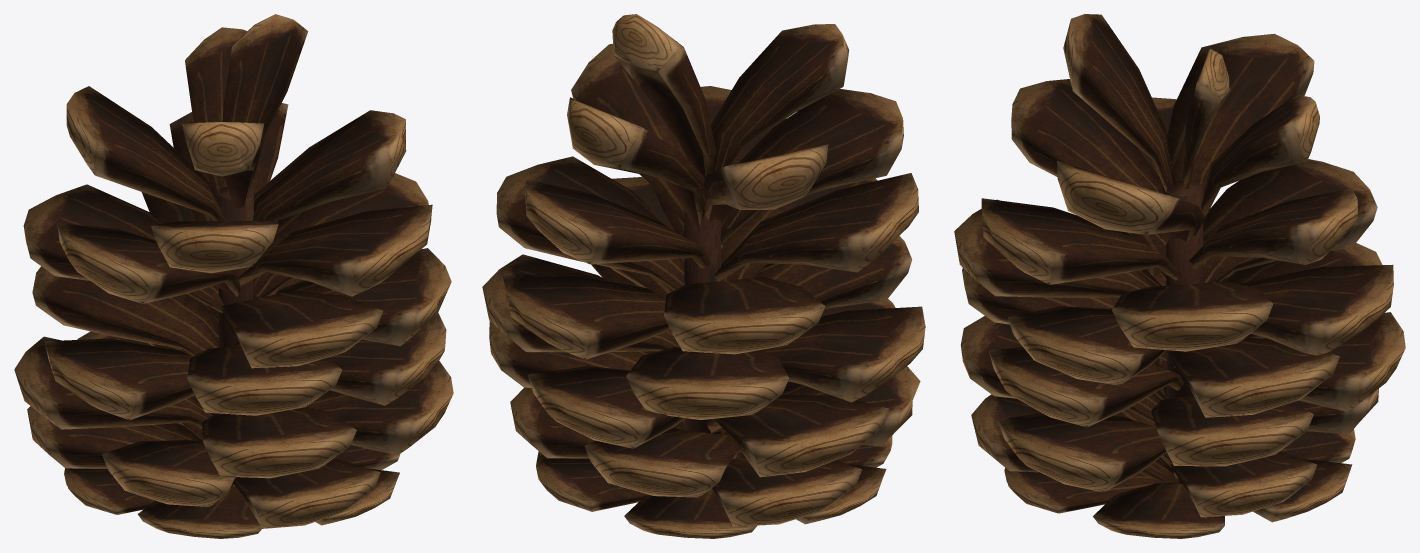
File: pinecone.fbx
3 renders of one model, left to right at view 1: azimuth 30°, elevation 25°; view 2: azimuth 150°, elevation 25°; view 3: azimuth 270°, elevation 25°, orthographic. The views are drawn at different scales.
Visible parts, largest first — view 1: cone.006; view 2: cone.006; view 3: cone.006.
Part boxes in pixels (left/top/right/bottom): cone.006: left=14, top=14, right=453, bottom=538; cone.006: left=482, top=14, right=925, bottom=538; cone.006: left=954, top=14, right=1405, bottom=538.
Size of the model in its own units: 43.98 by 50.87 by 44.63.
